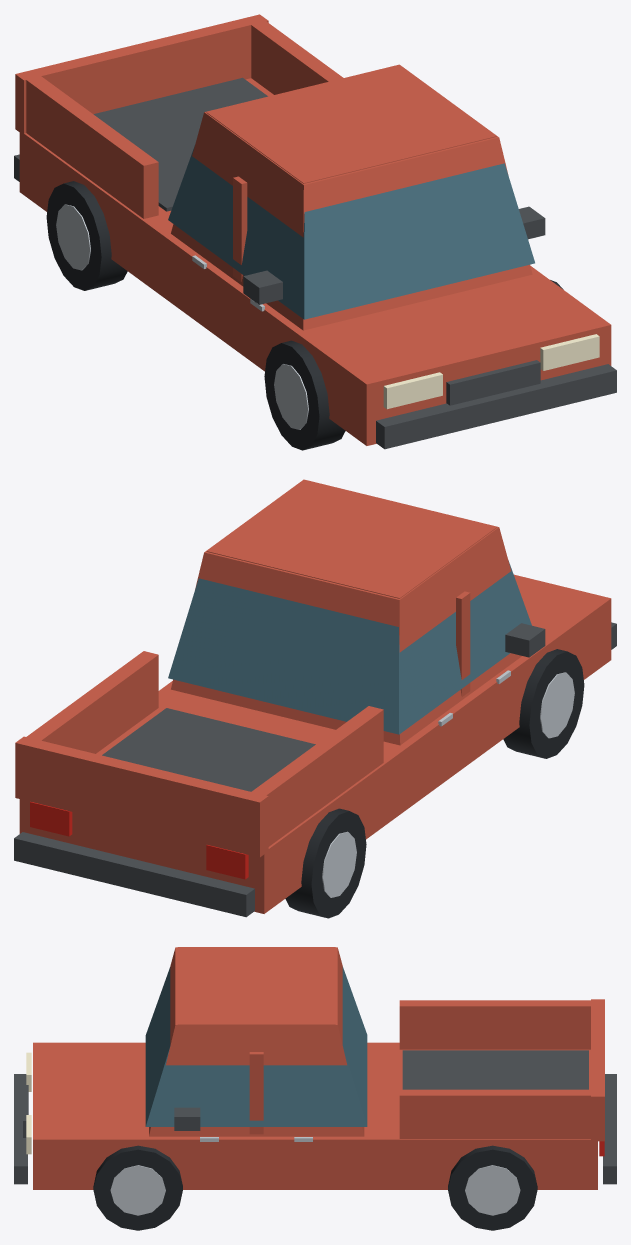
File: pickup.glb
3 renders of one model, top to bottom at view 1: azimuth 30°, elevation 25°; view 2: azimuth 150°, elevation 25°; view 3: azimuth 270°, elevation 25°, orthographic. The views are drawn at different scales.
Parts seen in each view (by area): view 1: Body, Windows, Bed, FrontBumper, WheelRearL, WheelFrontL, Headlights, Grille, Mirrors; view 2: Body, Windows, Bed, RearBumper, WheelRearL, WheelFrontL, TailLights, Mirrors; view 3: Body, Windows, Bed, WheelFrontR, WheelRearR, RearBumper, FrontBumper, Mirrors, Headlights.
Boxes of the visible parts, x1,y1,x2,y2 form: Body: [15, 14, 611, 445]; Windows: [168, 145, 534, 319]; Bed: [93, 77, 267, 211]; FrontBumper: [376, 364, 616, 449]; WheelRearL: [46, 181, 127, 290]; WheelFrontL: [264, 340, 345, 450]; Headlights: [383, 334, 599, 409]; Grille: [446, 360, 540, 405]; Mirrors: [243, 206, 545, 304]; Body: [15, 479, 611, 913]; Windows: [168, 560, 531, 734]; Bed: [102, 708, 315, 791]; RearBumper: [14, 832, 254, 917]; WheelRearL: [285, 808, 366, 918]; WheelFrontL: [503, 649, 584, 758]; TailLights: [30, 801, 248, 879]; Mirrors: [505, 623, 545, 657]; Body: [33, 947, 604, 1189]; Windows: [145, 966, 367, 1126]; Bed: [402, 1050, 588, 1089]; WheelFrontR: [93, 1145, 182, 1230]; WheelRearR: [448, 1145, 537, 1230]; RearBumper: [603, 1074, 616, 1184]; FrontBumper: [14, 1074, 27, 1184]; Mirrors: [174, 1107, 200, 1130]; Headlights: [26, 1052, 31, 1154].
Bounding box in the file's own units: 2.28 × 1.8 × 5.12.
